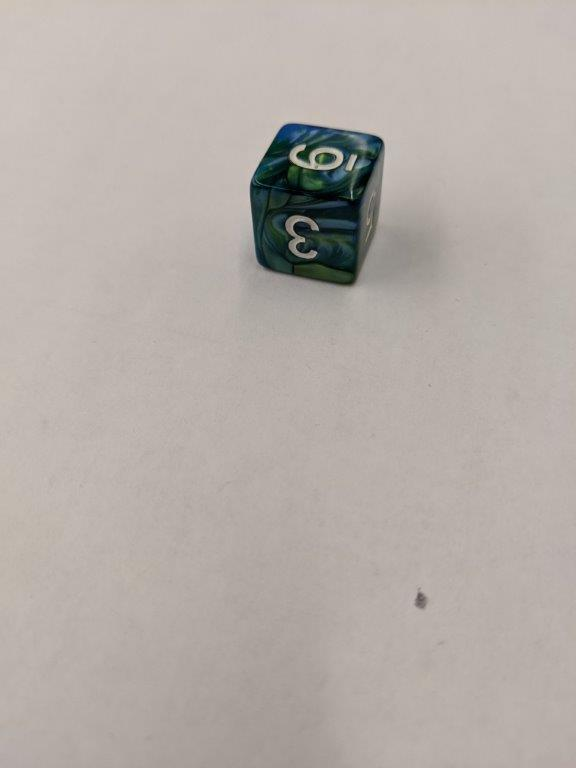d6-6: (249, 122, 383, 289)
